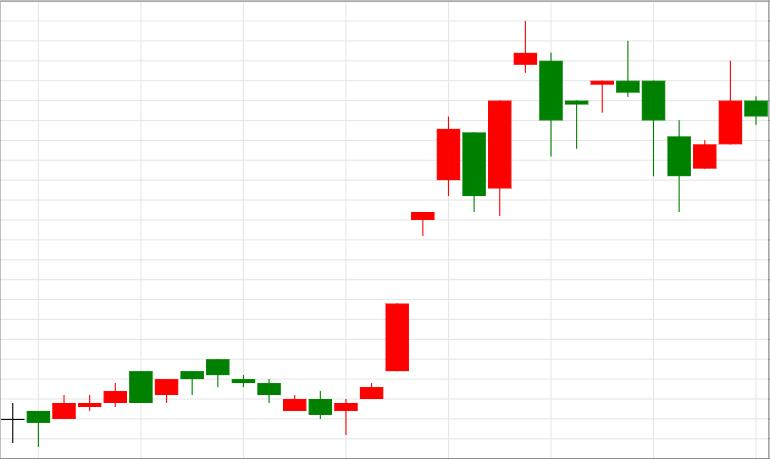evening_star_fall: (334, 20, 563, 435)
